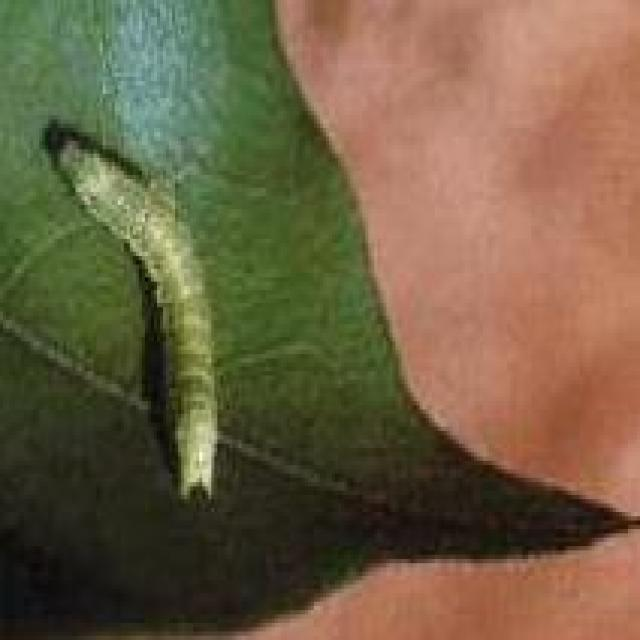BeetArmyWorm-Larva-: (56, 143, 240, 510)
